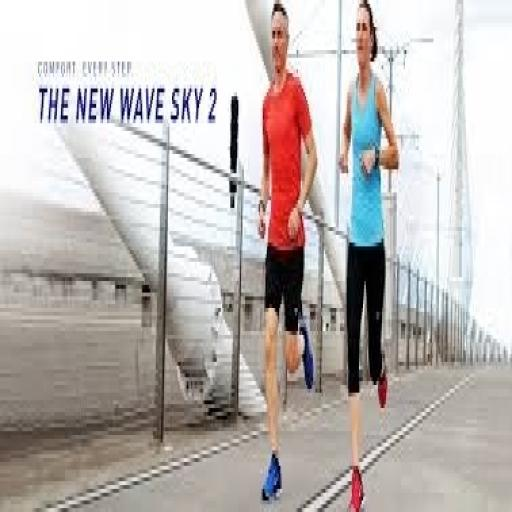running: (336, 0, 401, 508), (256, 0, 320, 508)
